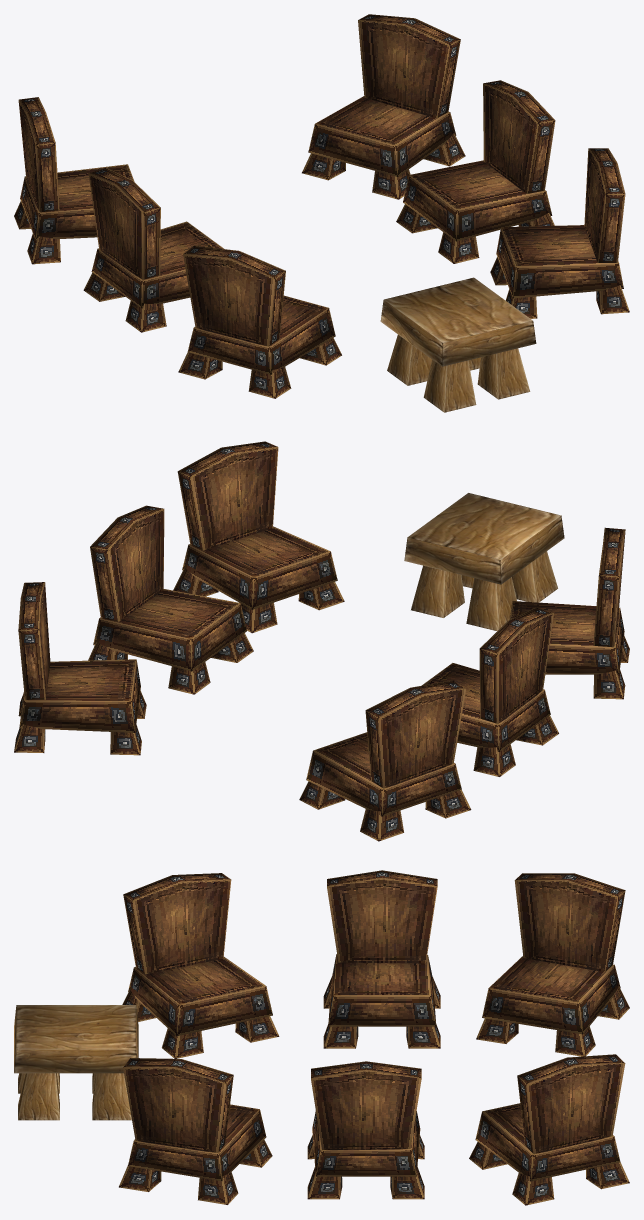
Rendered from chairs_set3.obj.
The picture shows the model from 3 angles, top to bottom: view 1: azimuth 30°, elevation 25°; view 2: azimuth 150°, elevation 25°; view 3: azimuth 270°, elevation 25°; orthographic projection. The views are drawn at different scales.
Visible parts, largest first — view 1: chairs_set3:Geoset4, chairs_set3:Geoset2, chairs_set3:Geoset0, chairs_set3:Geoset5, chairs_set3:Geoset3, chairs_set3:Geoset0chairs_set3, chairs_set3:Geoset1; view 2: chairs_set3:Geoset3, chairs_set3:Geoset2, chairs_set3:Geoset1, chairs_set3:Geoset5, chairs_set3:Geoset4, chairs_set3:Geoset0chairs_set3, chairs_set3:Geoset0; view 3: chairs_set3:Geoset1, chairs_set3:Geoset0, chairs_set3:Geoset0chairs_set3, chairs_set3:Geoset4, chairs_set3:Geoset3, chairs_set3:Geoset2, chairs_set3:Geoset5.
Boxes of the visible parts, box(x1,y1,x2,y2) form: chairs_set3:Geoset4: box(302, 14, 465, 199); chairs_set3:Geoset2: box(396, 80, 555, 263); chairs_set3:Geoset0: box(178, 245, 341, 398); chairs_set3:Geoset5: box(380, 277, 536, 412); chairs_set3:Geoset3: box(490, 148, 629, 318); chairs_set3:Geoset0chairs_set3: box(83, 167, 223, 332); chairs_set3:Geoset1: box(14, 97, 134, 264); chairs_set3:Geoset3: box(173, 441, 344, 633); chairs_set3:Geoset2: box(88, 505, 253, 694); chairs_set3:Geoset1: box(299, 680, 471, 841); chairs_set3:Geoset5: box(404, 493, 564, 631); chairs_set3:Geoset4: box(14, 582, 146, 755); chairs_set3:Geoset0chairs_set3: box(422, 607, 558, 776); chairs_set3:Geoset0: box(510, 527, 629, 699); chairs_set3:Geoset1: box(476, 873, 629, 1056); chairs_set3:Geoset0: box(122, 873, 279, 1058); chairs_set3:Geoset0chairs_set3: box(323, 870, 440, 1048); chairs_set3:Geoset4: box(469, 1054, 629, 1205); chairs_set3:Geoset3: box(119, 1058, 272, 1204); chairs_set3:Geoset2: box(307, 1061, 424, 1199); chairs_set3:Geoset5: box(14, 1005, 138, 1120).
Size of the model in its own units: 2.17 by 0.6319 by 2.62.
Materials: 7 (7 with a texture image).
